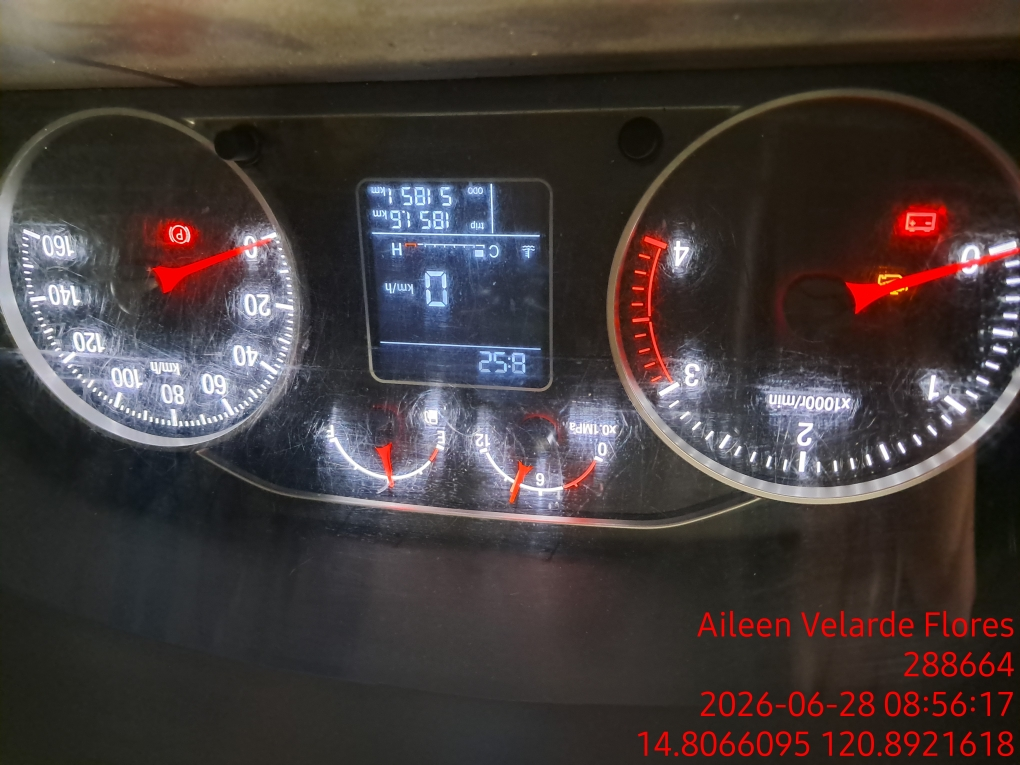pointer_pose: (144, 0, 437, 487)
